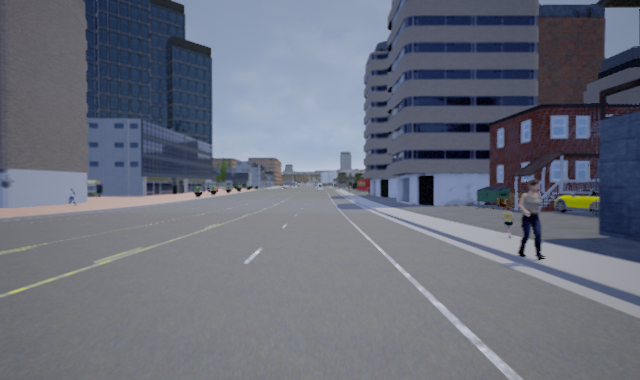pedestrian: (515, 177, 544, 259), (498, 203, 516, 240), (65, 187, 78, 206)
vehicle: (552, 187, 609, 215)
